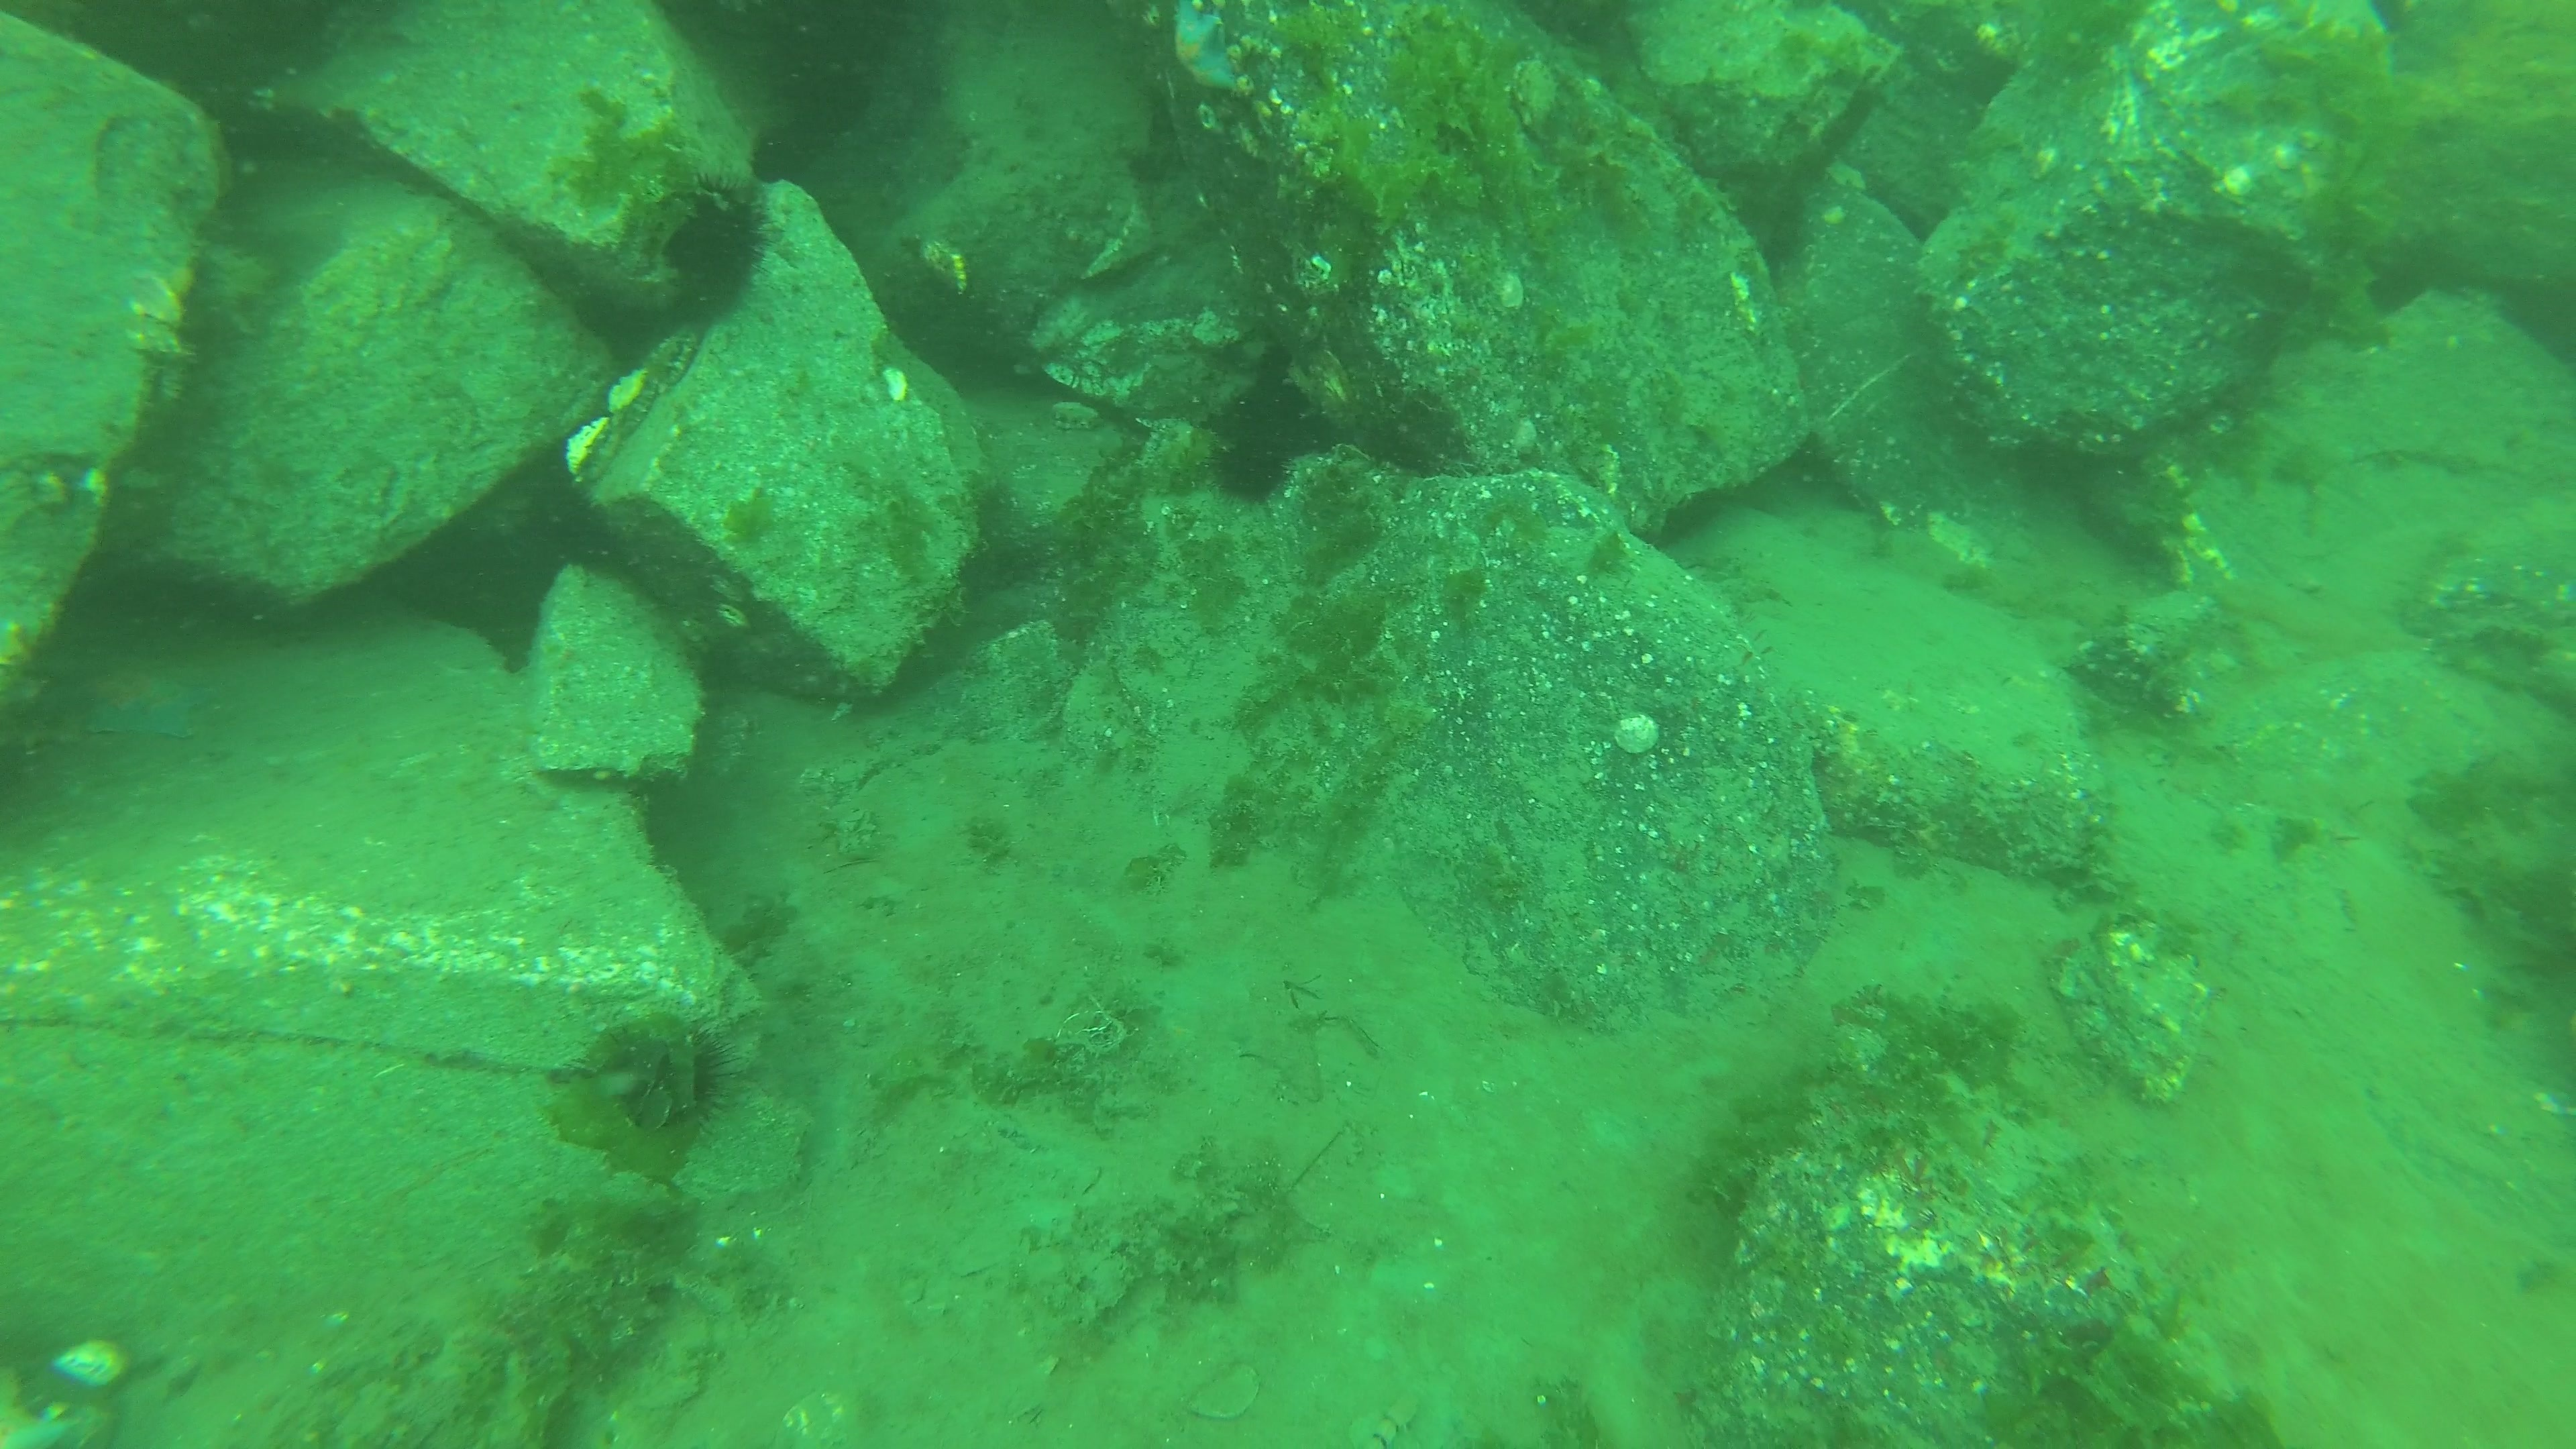echinus: (571, 1016, 738, 1141), (1177, 395, 1343, 518), (648, 166, 771, 327)
starfish: (58, 658, 223, 743), (1164, 5, 1246, 97)
